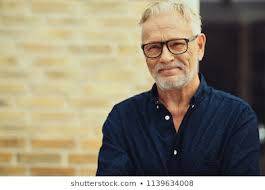Glasses: (136, 40, 202, 61)
